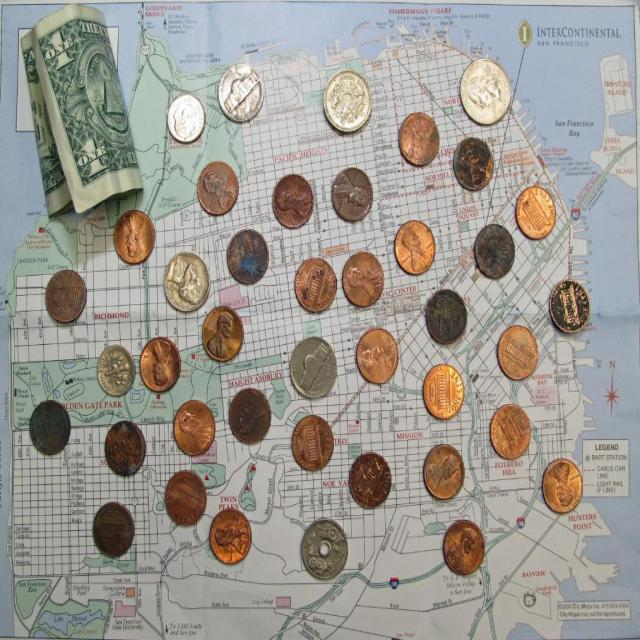Coin: (457, 55, 512, 120), (298, 518, 348, 585), (289, 334, 339, 398), (212, 60, 264, 121), (163, 248, 211, 311), (348, 446, 391, 516), (353, 322, 399, 387), (422, 286, 471, 347), (113, 204, 161, 265), (162, 467, 207, 530), (542, 454, 588, 515), (225, 226, 271, 286), (323, 71, 369, 131), (426, 439, 469, 503), (46, 267, 89, 329), (171, 398, 215, 458), (396, 104, 440, 164), (230, 386, 273, 446), (90, 501, 135, 558), (195, 158, 240, 215), (136, 332, 182, 387), (340, 256, 386, 311), (287, 425, 339, 473), (208, 502, 248, 563), (203, 302, 243, 362), (490, 401, 532, 458), (330, 170, 376, 222), (28, 399, 71, 454), (446, 521, 489, 576), (494, 322, 536, 378), (294, 257, 338, 309), (453, 135, 496, 186), (423, 363, 464, 416), (270, 183, 316, 230), (98, 338, 135, 395), (395, 221, 434, 274), (105, 420, 145, 471), (166, 91, 206, 142), (550, 285, 592, 331), (517, 190, 556, 235), (476, 233, 514, 276)
